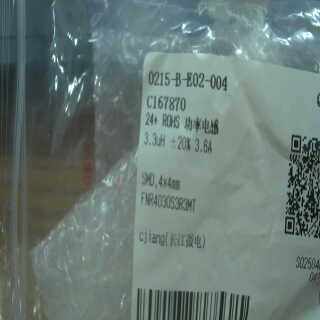3.3uH: (141, 128, 169, 150)
